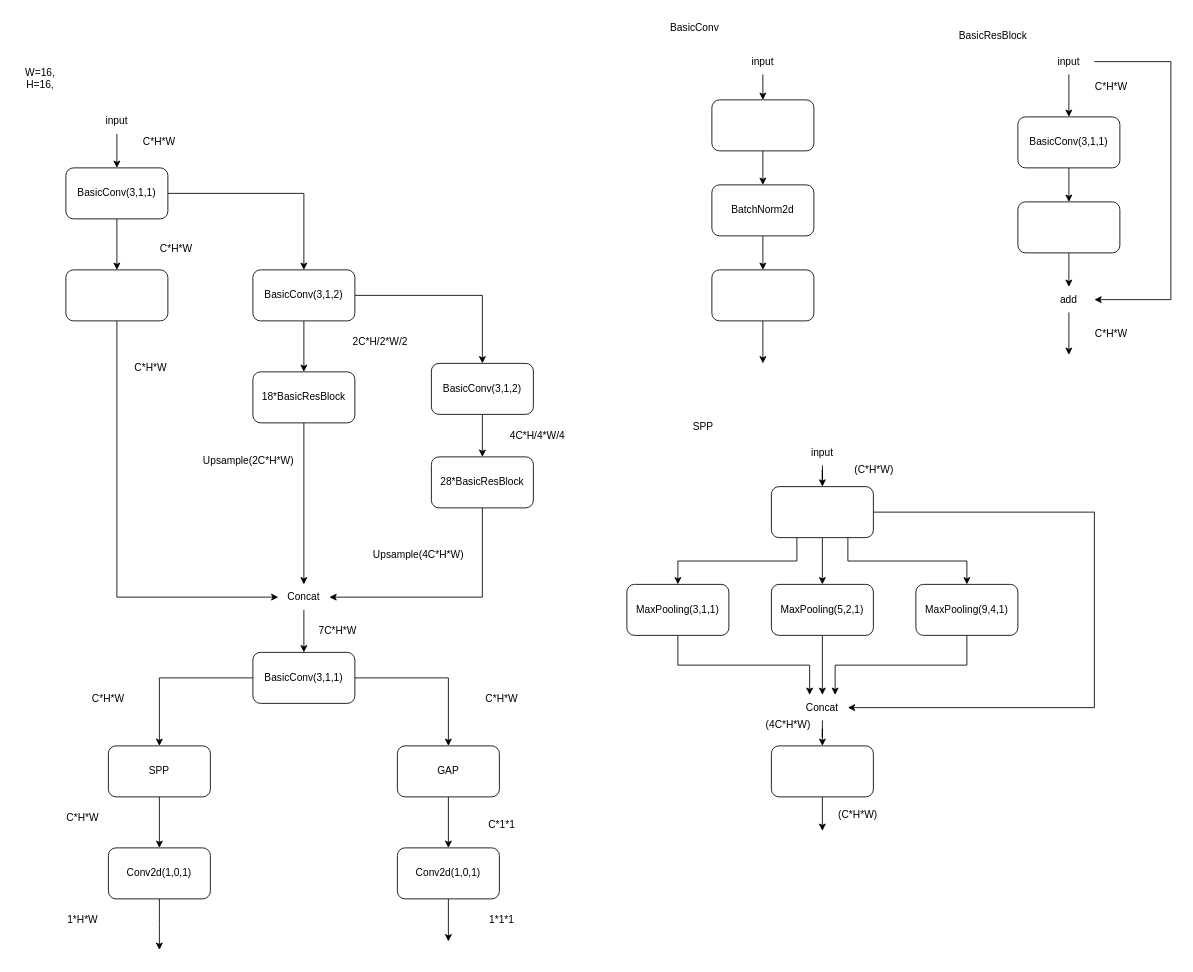
Image size: 1193x972. Some labels were removed from this diagram. Each missing label, with the box of its shape:
8*BasicResBlock: (65, 269, 168, 321)
BasicBlock(1,0,1): (771, 745, 873, 797)
BasicBlock(3,1,1): (771, 486, 873, 538)
BasicConv(1,0,1): (1017, 201, 1120, 253)
Conv2d: (711, 99, 814, 151)
RELU: (711, 269, 814, 321)
